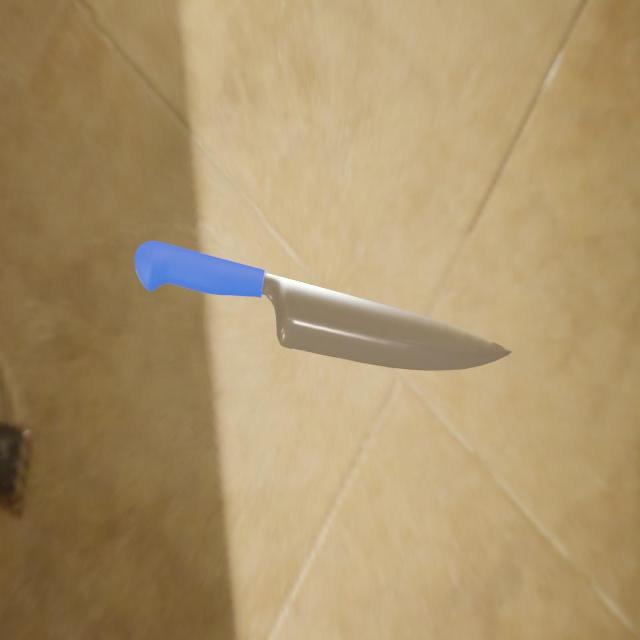knife: (134, 240, 265, 298)
